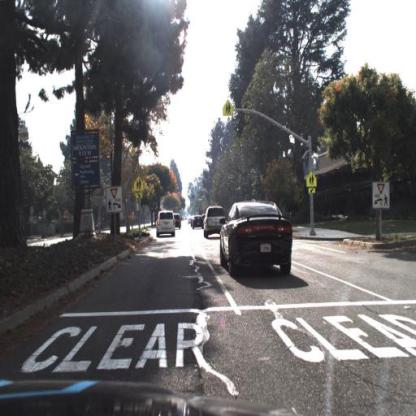car: (217, 199, 295, 282), (156, 210, 178, 238), (192, 215, 206, 231), (174, 212, 184, 233), (174, 212, 182, 232)
